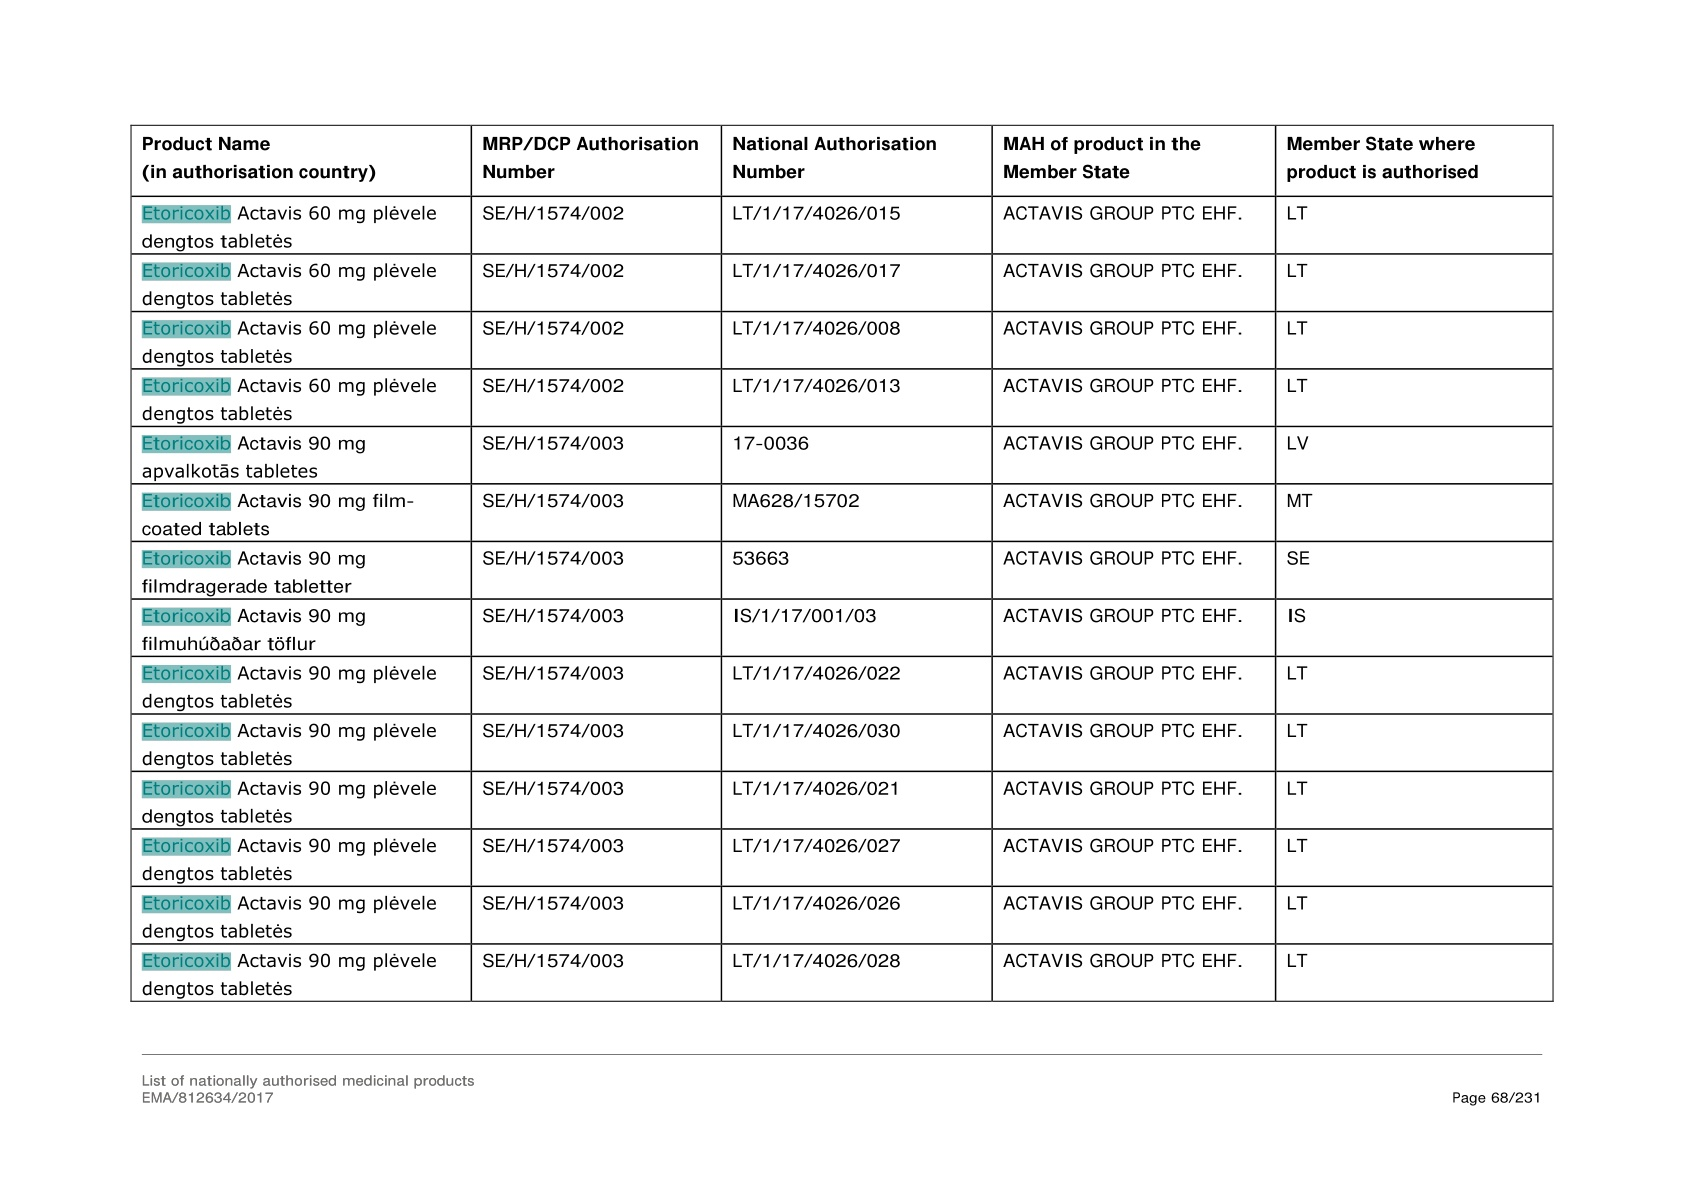full_lined: (129, 125, 1554, 1002)
